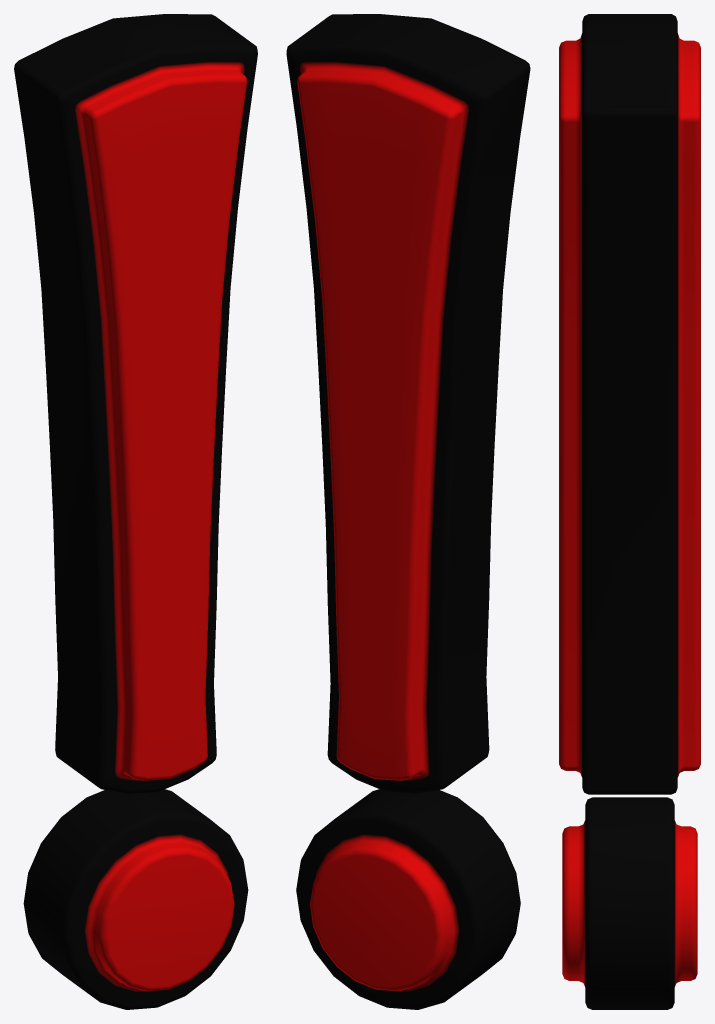
The model's file is exclamation.fbx.
3 views of the same model, side by side, from view 1: azimuth 30°, elevation 25°; view 2: azimuth 150°, elevation 25°; view 3: azimuth 270°, elevation 25° (orthographic).
Visible parts, largest first — view 1: pCylinder2; view 2: pCylinder2; view 3: pCylinder2.
Part boxes in pixels (x1,y1,x2,y2): pCylinder2: (14,14,257,1009); pCylinder2: (286,14,530,1009); pCylinder2: (559,14,700,1009).
Size of the model in its own units: 2.02 by 9.19 by 1.23.
